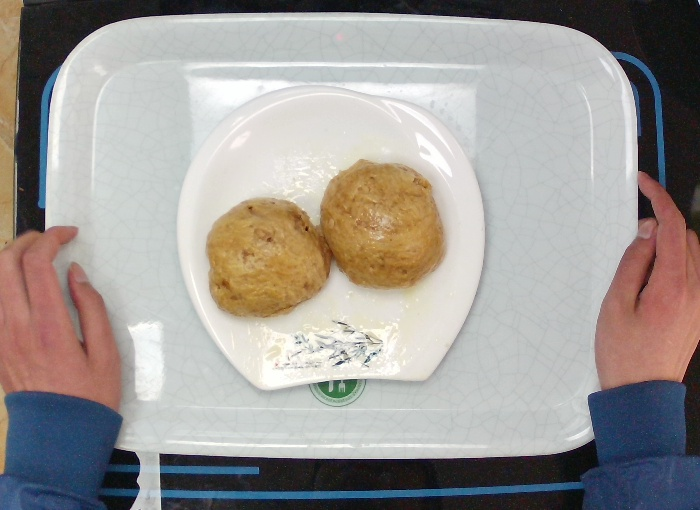JYsf-Mian_Pan: (164, 81, 495, 395)
